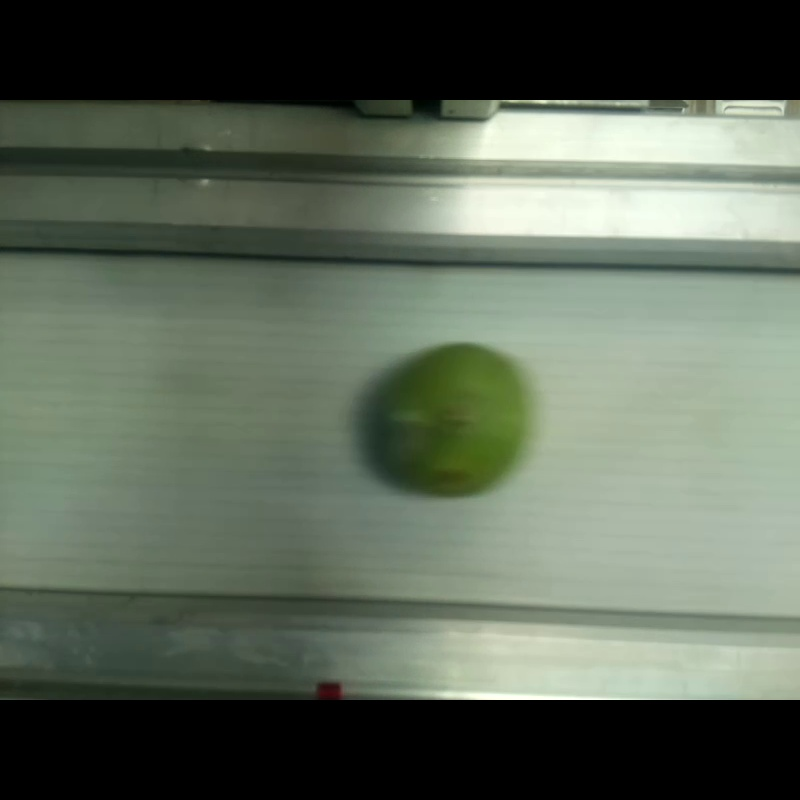lime: (368, 344, 522, 497)
